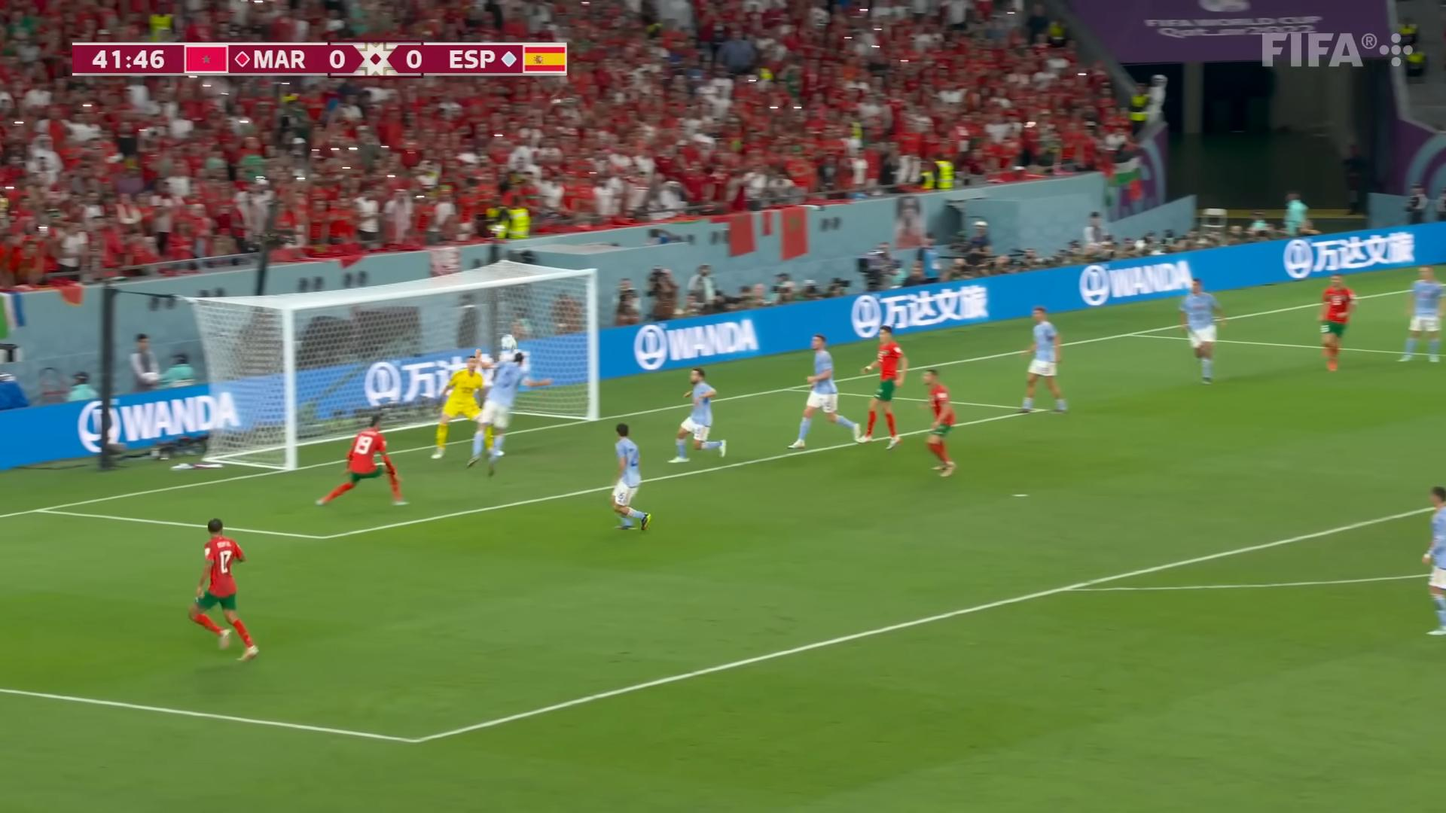Goalkeeper: (432, 353, 486, 460)
Player: (470, 350, 554, 473), (189, 519, 260, 659), (788, 333, 859, 447), (859, 325, 907, 447), (669, 367, 726, 462), (1020, 305, 1068, 412), (1181, 279, 1226, 383), (1401, 265, 1446, 364), (613, 423, 652, 531), (1319, 274, 1356, 373), (924, 367, 957, 477)
ball: (500, 333, 517, 350)
